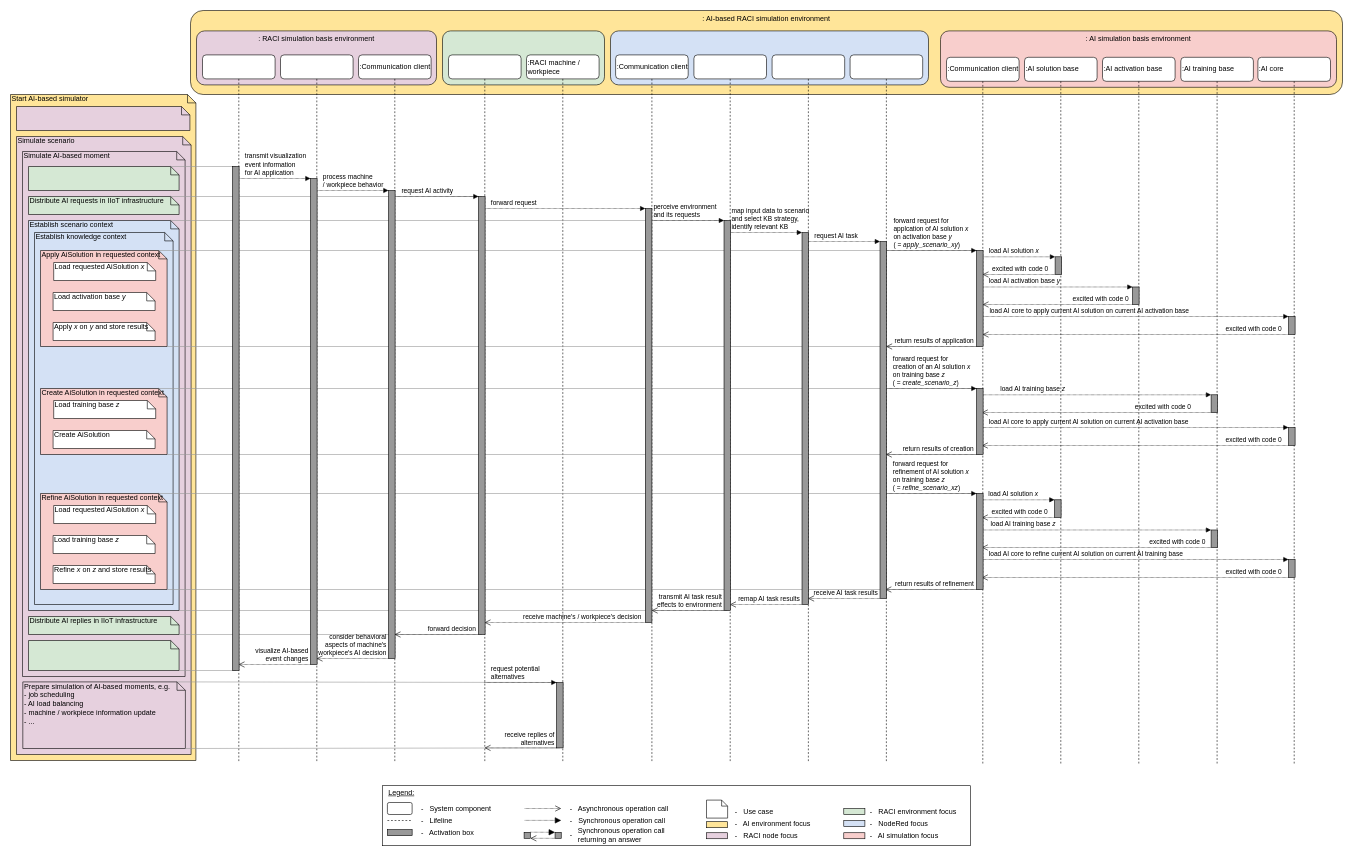
Some shapes in this 1353 by 856 pixel diagram are drawn without their labels. Each missing label, with the centre of its shape:
: NodeRed environment: the point at 769,57
: RACI environment: the point at 523,57
:Communication server: the point at 886,408
:Global RACI communication server: the point at 484,408
:Knowledge base: the point at 808,408
:Simulation core: the point at 316,408
:Simulation data mapping and KB management: the point at 729,408
:Visualization: the point at 238,408
Initialization procedures: the point at 103,118
Perceive physical sensory information and prepare AI requests: the point at 103,178
Simulate physical actuator information and consider AI replies: the point at 103,655
